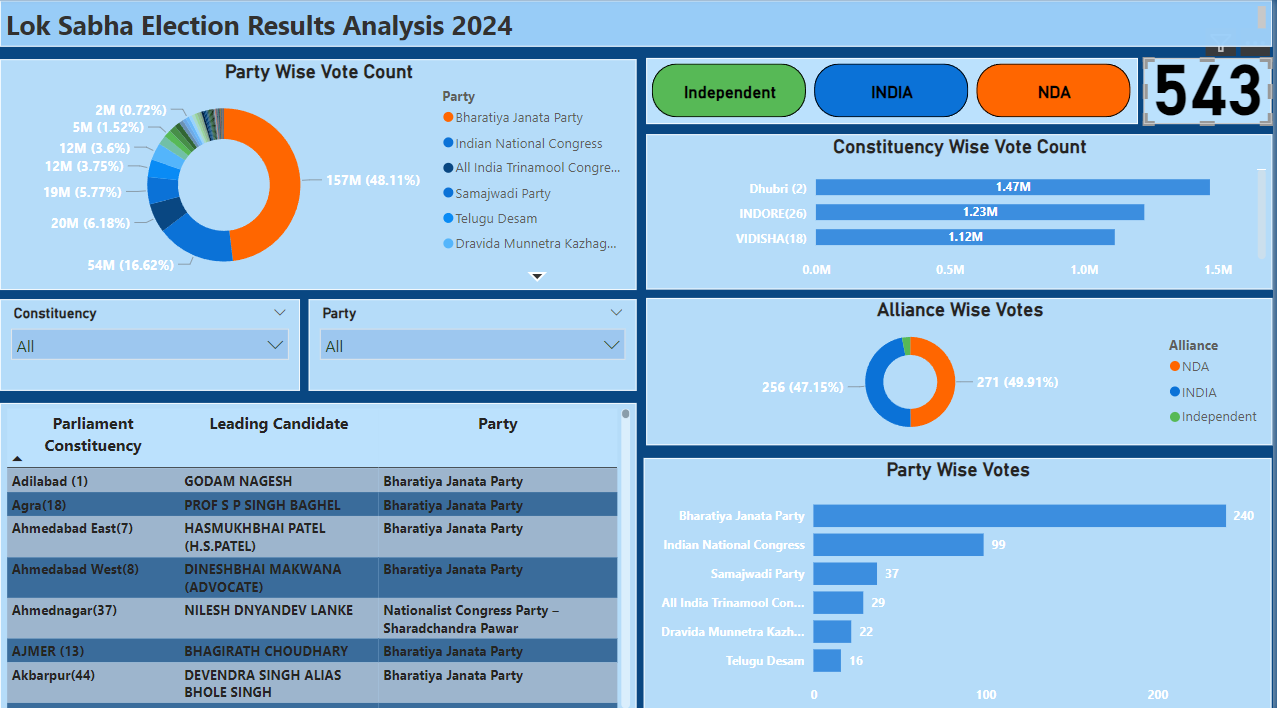

What the dashboard file says about the page in this screenshot:
{"tool":"powerbi","page":{"name":"Page 1","canvas":[1280,720],"ordinal":0},"visuals":[{"type":"clusteredBarChart","title":"Party Wise Votes","fields":{"Category":["Sheet1.Leading Party"],"Y":["Sheet1.Leading Party"]},"box":[647.9,462,631,257.7],"z":0},{"type":"donutChart","title":"Alliance Wise Votes","fields":{"Category":["Sheet1.Alliance"],"Y":["Sheet1.Alliance"]},"box":[649.3,302,629.8,148],"z":1000},{"type":"tableEx","fields":{"Values":["Sheet1.Parliament Constituency","Sheet1.Leading Candidate","Sheet1.Leading Party"]},"box":[0,406.7,640,313.3],"z":2000},{"type":"slicer","title":"Constituency","fields":{"Values":["Sheet1.Parliament Constituency"]},"box":[0,302.7,301.3,92],"z":3000},{"type":"slicer","title":"Party","fields":{"Values":["Sheet1.Leading Party"]},"box":[310.7,302.7,329.3,92],"z":4000},{"type":"card","fields":{"Values":["Sheet1.Parliament Constituency"]},"box":[1150.7,60,128,66.7],"z":5000},{"type":"textbox","box":[0,2.4,1279.1,46.5],"z":6000},{"type":"advancedSlicerVisual","fields":{"Values":["Sheet1.Alliance"]},"box":[649.3,59.9,494,66],"z":7000},{"type":"donutChart","title":"Party Wise Vote Count","fields":{"Y":["Sheet1.Total Votes"],"Category":["Sheet1.Party"]},"box":[0,61.3,640,232],"z":8000},{"type":"barChart","title":"Constituency Wise Vote Count","fields":{"Category":["Sheet1.Parliament Constituency"],"Y":["Sheet1.Total Votes"]},"box":[649.3,137.3,629.3,156],"z":9000}]}

Visuals, with their boxes in screenshot pixels (x1, y1, x2, y2), scaled from the page's 1280x720 canvas onto the 1277x708 screenshot:
"Party Wise Votes" clusteredBarChart: [left=646, top=454, right=1276, bottom=707]
"Alliance Wise Votes" donutChart: [left=648, top=297, right=1276, bottom=442]
tableEx - Sheet1.Parliament Constituency x Sheet1.Leading Candidate: [left=0, top=400, right=638, bottom=707]
"Constituency" slicer: [left=0, top=298, right=301, bottom=388]
"Party" slicer: [left=310, top=298, right=638, bottom=388]
card - Sheet1.Parliament Constituency: [left=1148, top=59, right=1276, bottom=125]
textbox: [left=0, top=2, right=1276, bottom=48]
advancedSlicerVisual - Sheet1.Alliance: [left=648, top=59, right=1141, bottom=124]
"Party Wise Vote Count" donutChart: [left=0, top=60, right=638, bottom=288]
"Constituency Wise Vote Count" barChart: [left=648, top=135, right=1276, bottom=288]
